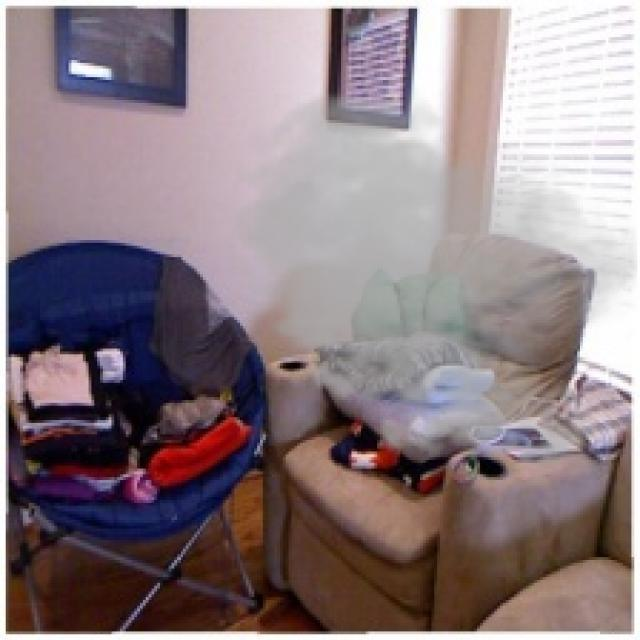Smoke: (217, 83, 637, 480)
